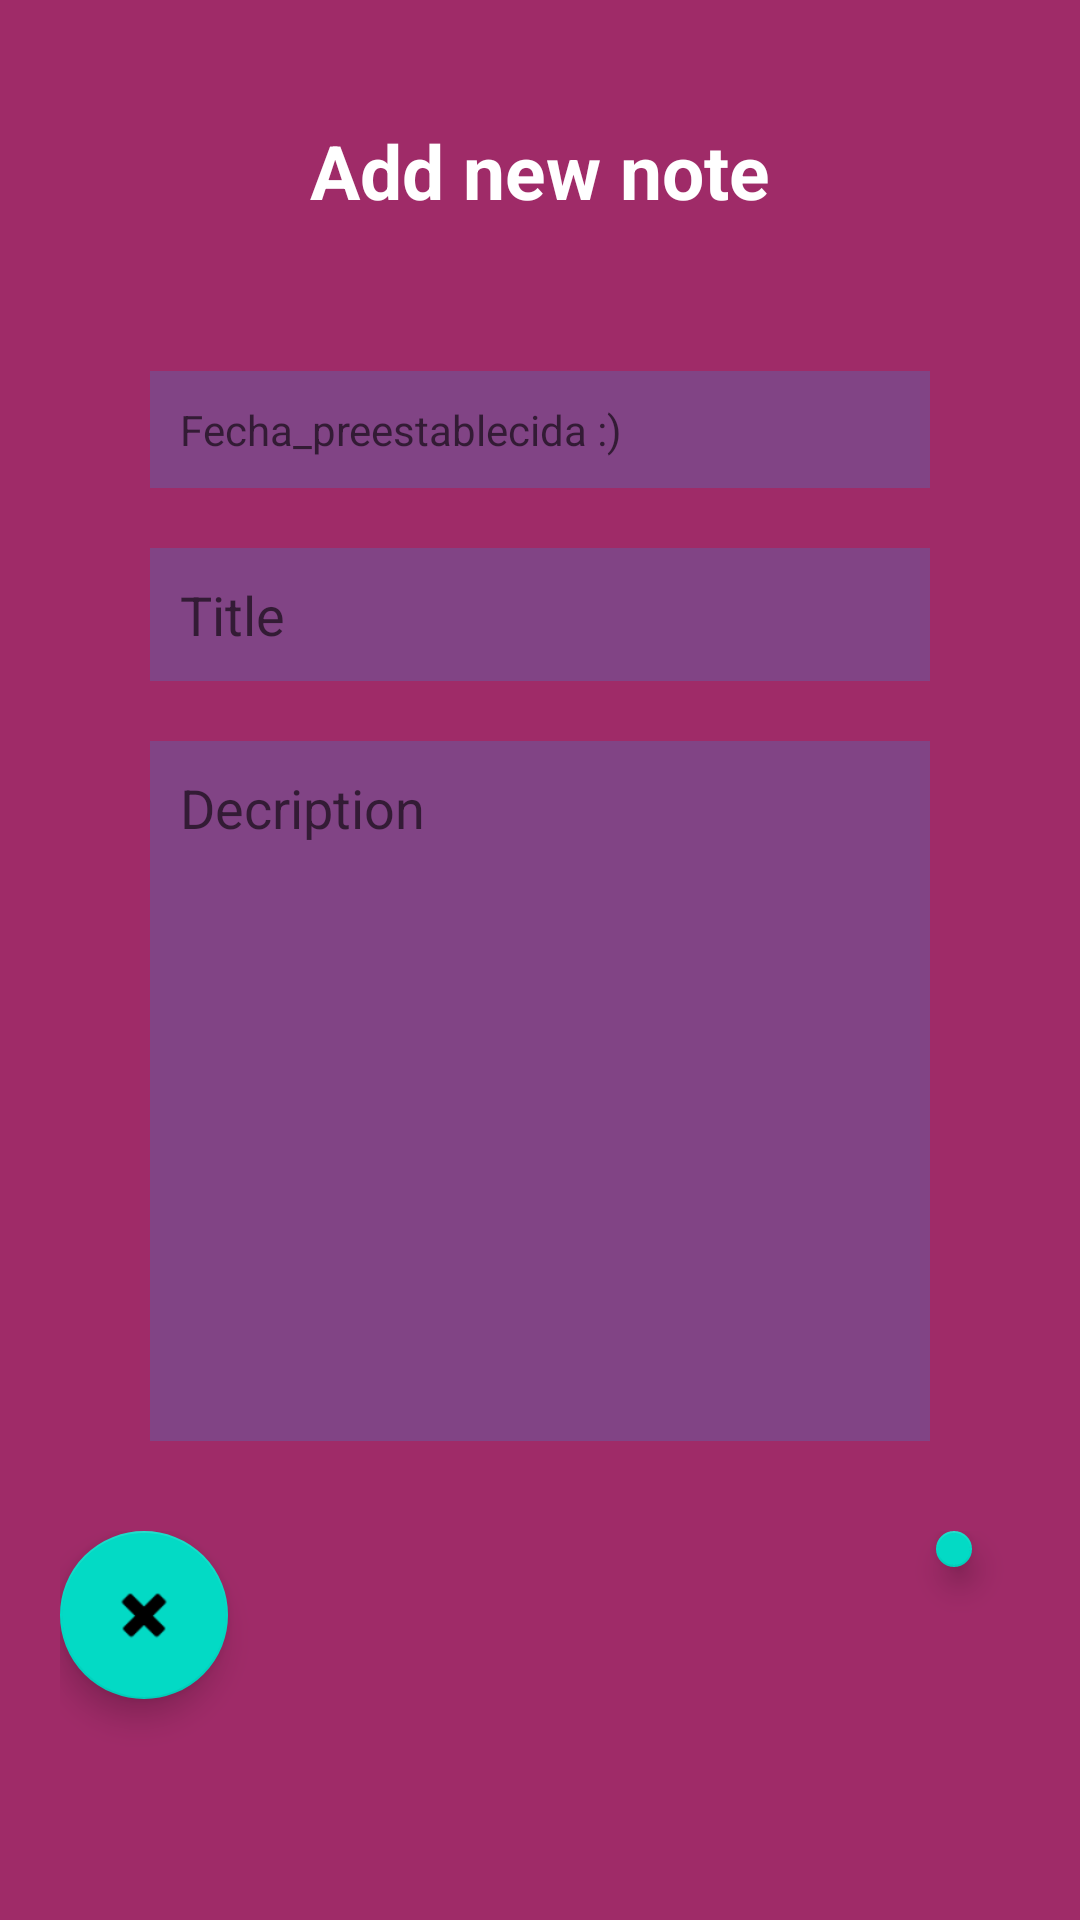

Locate icon controls on the screen. Image size 1080 x 1920, boxes as (x1, y1, x2, y2).
delete: (60, 1531, 228, 1699)
